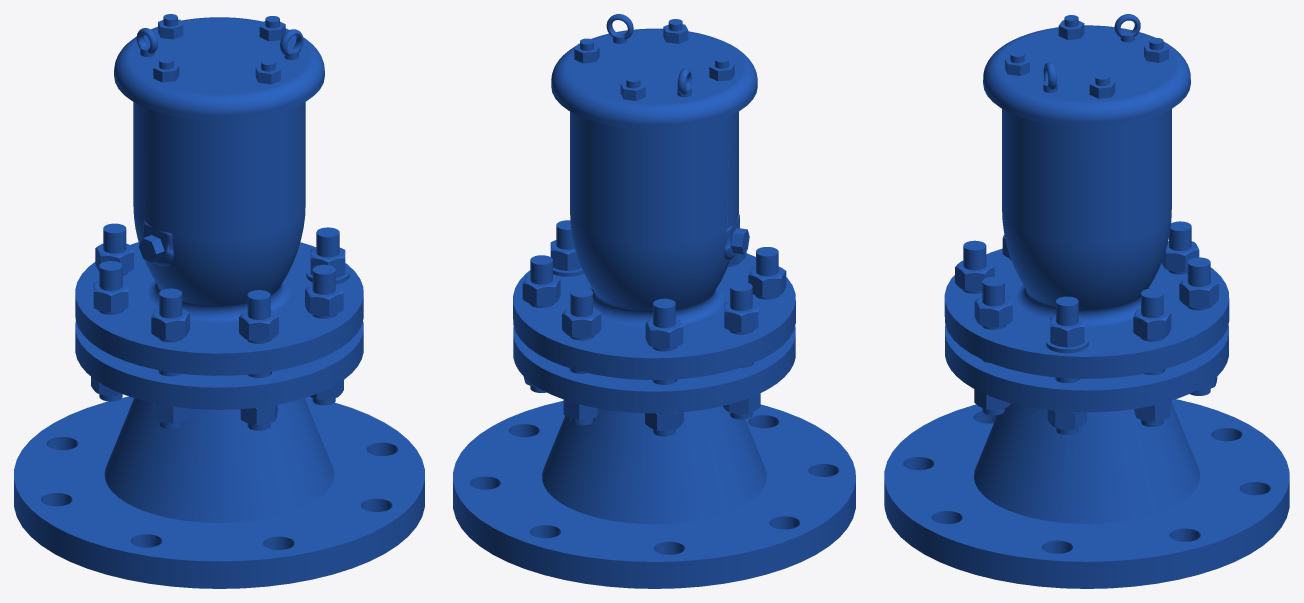
Rendered from DN80空气阀组件、异径接头.glb.
3 views of the same model, side by side, from view 1: azimuth 30°, elevation 25°; view 2: azimuth 150°, elevation 25°; view 3: azimuth 270°, elevation 25° (orthographic). The views are drawn at different scales.
Visible parts, largest first — view 1: DN80空气阀组件（异径法兰）.SLDPRT; view 2: DN80空气阀组件（异径法兰）.SLDPRT; view 3: DN80空气阀组件（异径法兰）.SLDPRT.
Part boxes in pixels (x1,y1,x2,y2): DN80空气阀组件（异径法兰）.SLDPRT: (14,14,424,588); DN80空气阀组件（异径法兰）.SLDPRT: (453,14,855,588); DN80空气阀组件（异径法兰）.SLDPRT: (884,14,1289,588).
Bounding box in the file's own units: 0.285 × 0.364 × 0.2845.
